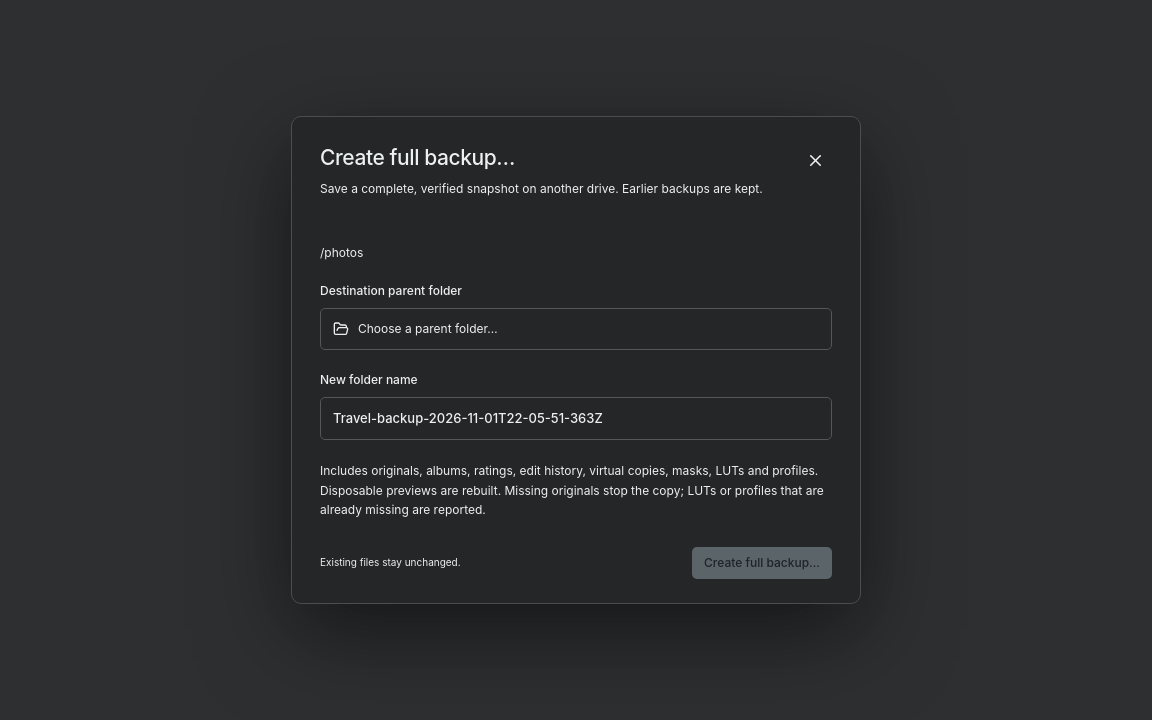
Test case: flushes edits and creates a new full backup without opening it for editing
Click the button named "Destination parent folder" at (428, 328), box 320,308 -> 832,350
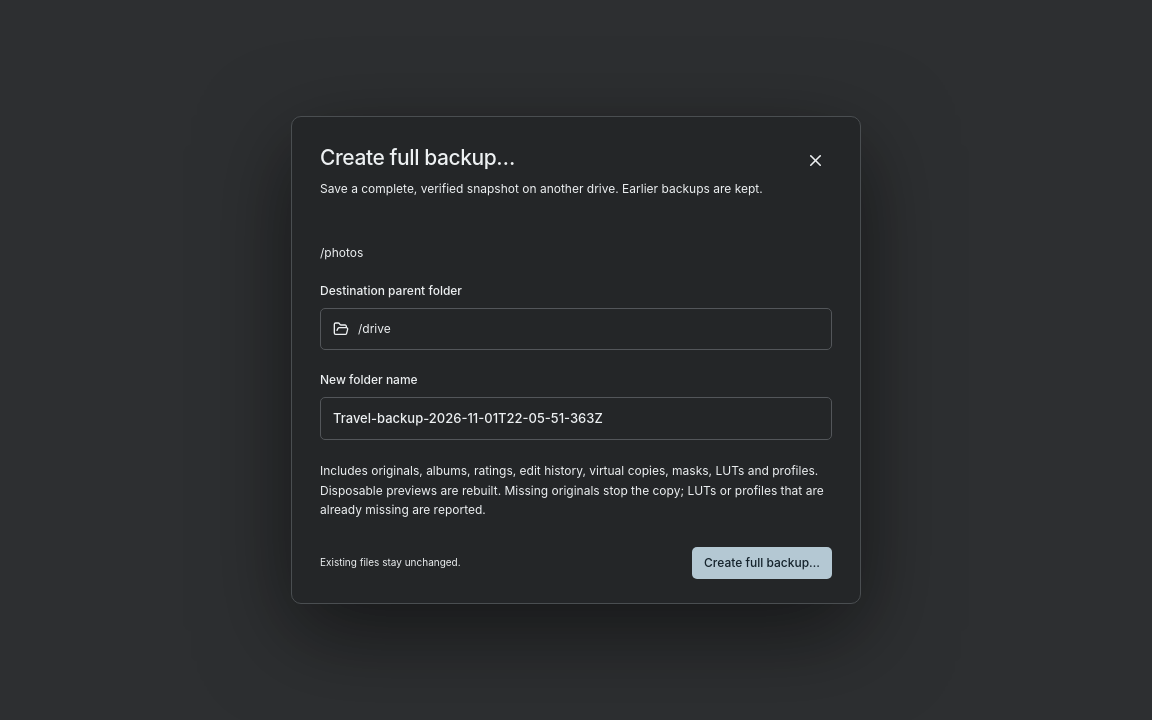
Click the button "Create full backup…" at (762, 563), box 692,547 -> 832,579
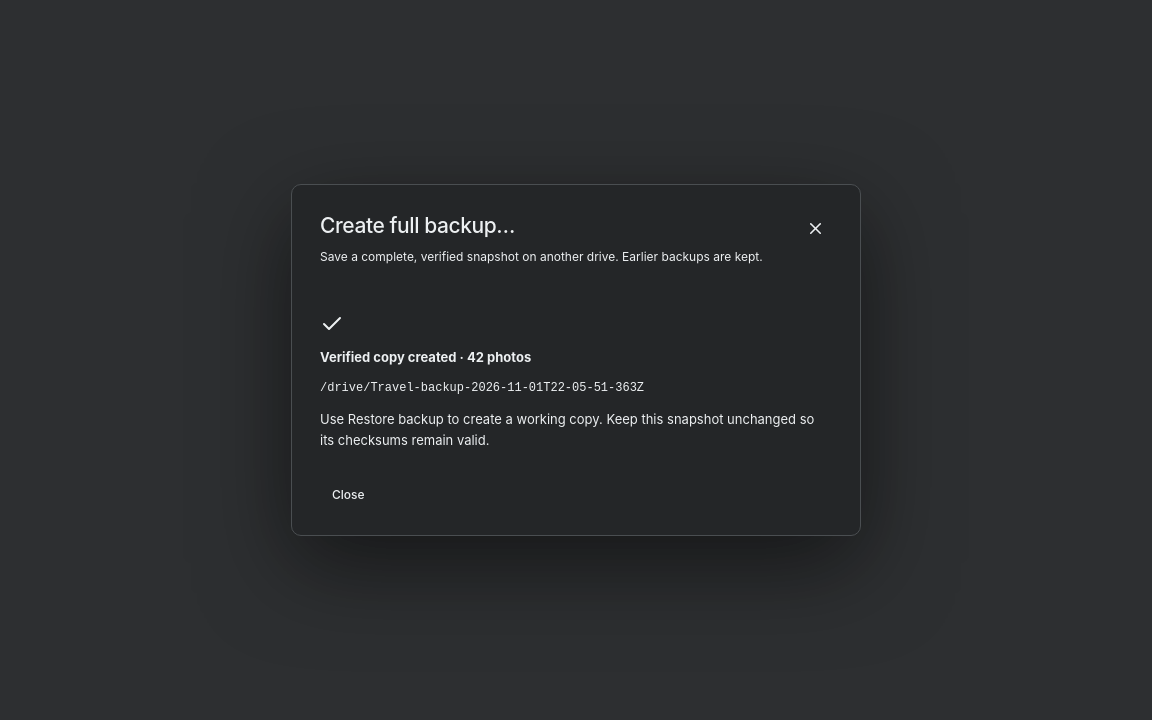
expect the text "Verified copy created · 42 photos" is shown: met, box 320,348 -> 531,367
